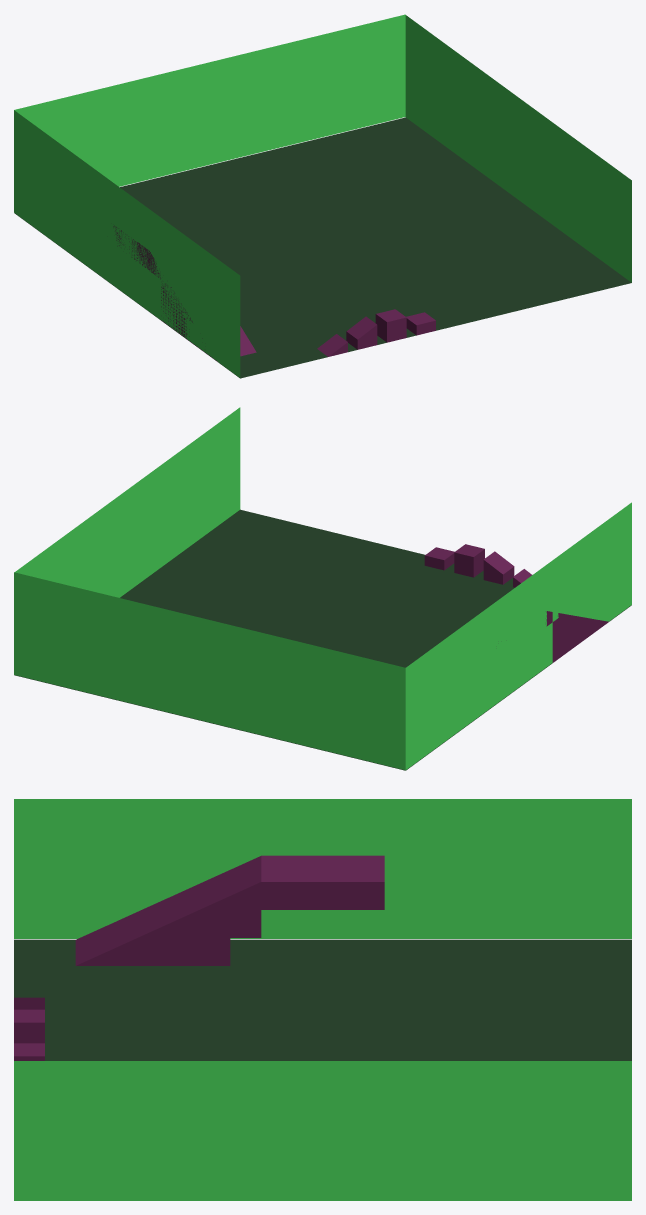
File: TheConstructCollisionEnabled.glb
The picture shows the model from 3 angles, top to bottom: view 1: azimuth 30°, elevation 25°; view 2: azimuth 150°, elevation 25°; view 3: azimuth 270°, elevation 25°; orthographic projection. The views are drawn at different scales.
Visible parts, largest first — view 1: Grid-col, Plane-col, Plane.002-col, Plane.001-col, Cube-col, tall_ramp_60-col, half_cube-col; view 2: Plane-col, Grid-col, Plane.001-col, Plane.002-col, Cube-col, tall_ramp_60-col, half_cube-col; view 3: Plane.002-col, Plane.001-col, Grid-col, Cube.013-col, Cube.014-col, Cube.015-col, Cube.016-col, tall_ramp_60.005-col, tall_ramp_60.003-col, tall_ramp_60.002-col, Cube-col, Cube.002-col (+8 smaller).
Boxes of the visible parts, bbox=[...] form: Grid-col: bbox=[14, 117, 631, 378]; Plane-col: bbox=[14, 14, 405, 186]; Plane.002-col: bbox=[405, 15, 631, 282]; Plane.001-col: bbox=[14, 110, 240, 377]; Cube-col: bbox=[375, 309, 406, 342]; tall_ramp_60-col: bbox=[346, 316, 377, 349]; half_cube-col: bbox=[406, 312, 435, 335]; Plane-col: bbox=[14, 572, 405, 770]; Grid-col: bbox=[14, 509, 631, 770]; Plane.001-col: bbox=[405, 502, 631, 769]; Plane.002-col: bbox=[15, 407, 240, 597]; Cube-col: bbox=[454, 544, 484, 577]; tall_ramp_60-col: bbox=[483, 551, 514, 584]; half_cube-col: bbox=[424, 547, 454, 570]; Plane.002-col: bbox=[14, 1061, 631, 1200]; Plane.001-col: bbox=[14, 799, 631, 938]; Grid-col: bbox=[14, 939, 631, 1060]; Cube.013-col: bbox=[323, 868, 353, 909]; Cube.014-col: bbox=[292, 868, 322, 909]; Cube.015-col: bbox=[261, 868, 291, 909]; Cube.016-col: bbox=[354, 868, 384, 909]; tall_ramp_60.005-col: bbox=[230, 869, 261, 909]; tall_ramp_60.003-col: bbox=[168, 897, 199, 937]; tall_ramp_60.002-col: bbox=[106, 925, 137, 965]; Cube-col: bbox=[14, 1009, 44, 1043]; Cube.002-col: bbox=[137, 938, 168, 965].
Size of the model in its own units: 40 by 10.05 by 40.
